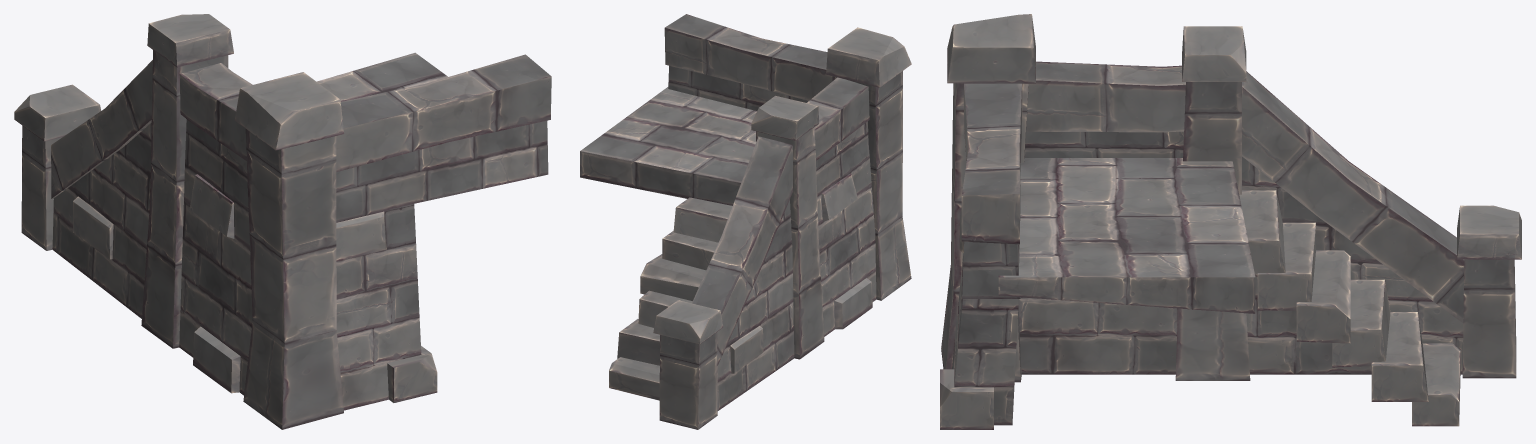
The model's file is SM_BLD_stairs_v03_v2.fbx.
3 renders of one model, left to right at view 1: azimuth 30°, elevation 25°; view 2: azimuth 150°, elevation 25°; view 3: azimuth 270°, elevation 25°, orthographic. The views are drawn at different scales.
Visible parts, largest first — view 1: SM_BLD_stairs_v03_v2; view 2: SM_BLD_stairs_v03_v2; view 3: SM_BLD_stairs_v03_v2.
Boxes of the visible parts, left/top/right/bottom form: SM_BLD_stairs_v03_v2: left=14, top=14, right=551, bottom=429; SM_BLD_stairs_v03_v2: left=580, top=14, right=911, bottom=429; SM_BLD_stairs_v03_v2: left=940, top=14, right=1521, bottom=429.
Size of the model in its own units: 308 by 323 by 508.
